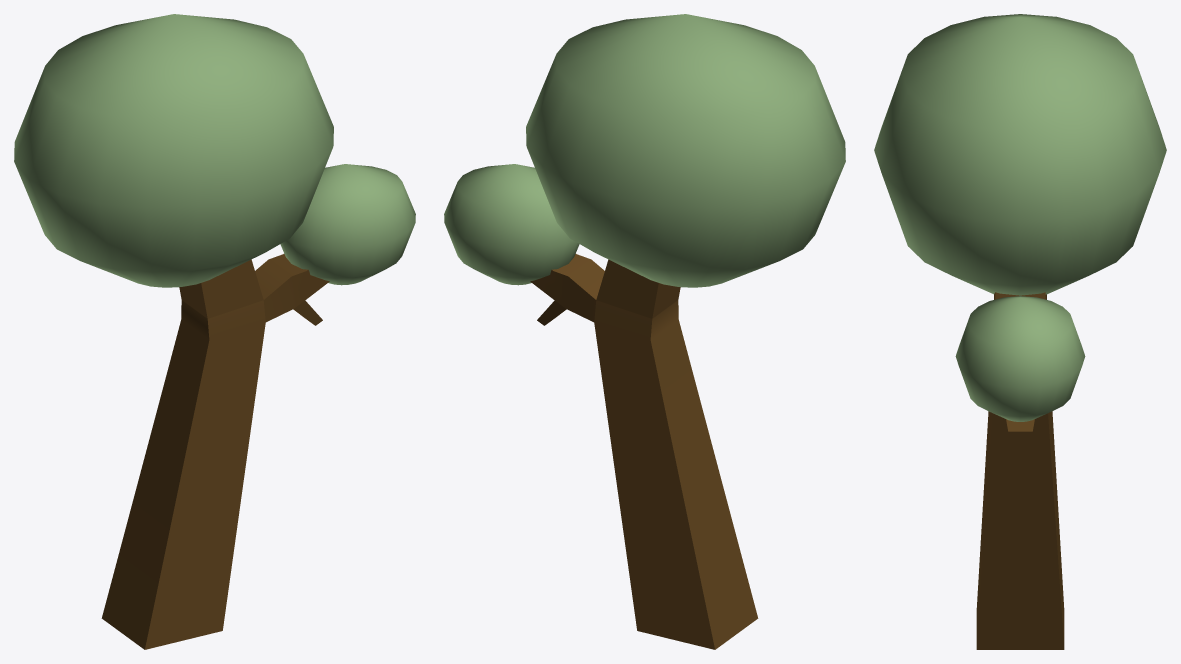
File: Tree.fbx
3 views of the same model, side by side, from view 1: azimuth 30°, elevation 25°; view 2: azimuth 150°, elevation 25°; view 3: azimuth 270°, elevation 25° (orthographic).
Parts seen in each view (by area): view 1: pCube2; view 2: pCube2; view 3: pCube2.
Boxes of the visible parts, bbox=[...] form: pCube2: bbox=[14, 14, 415, 649]; pCube2: bbox=[444, 14, 845, 649]; pCube2: bbox=[874, 14, 1166, 649].
Size of the model in its own units: 5.14 by 7.86 by 3.37.
